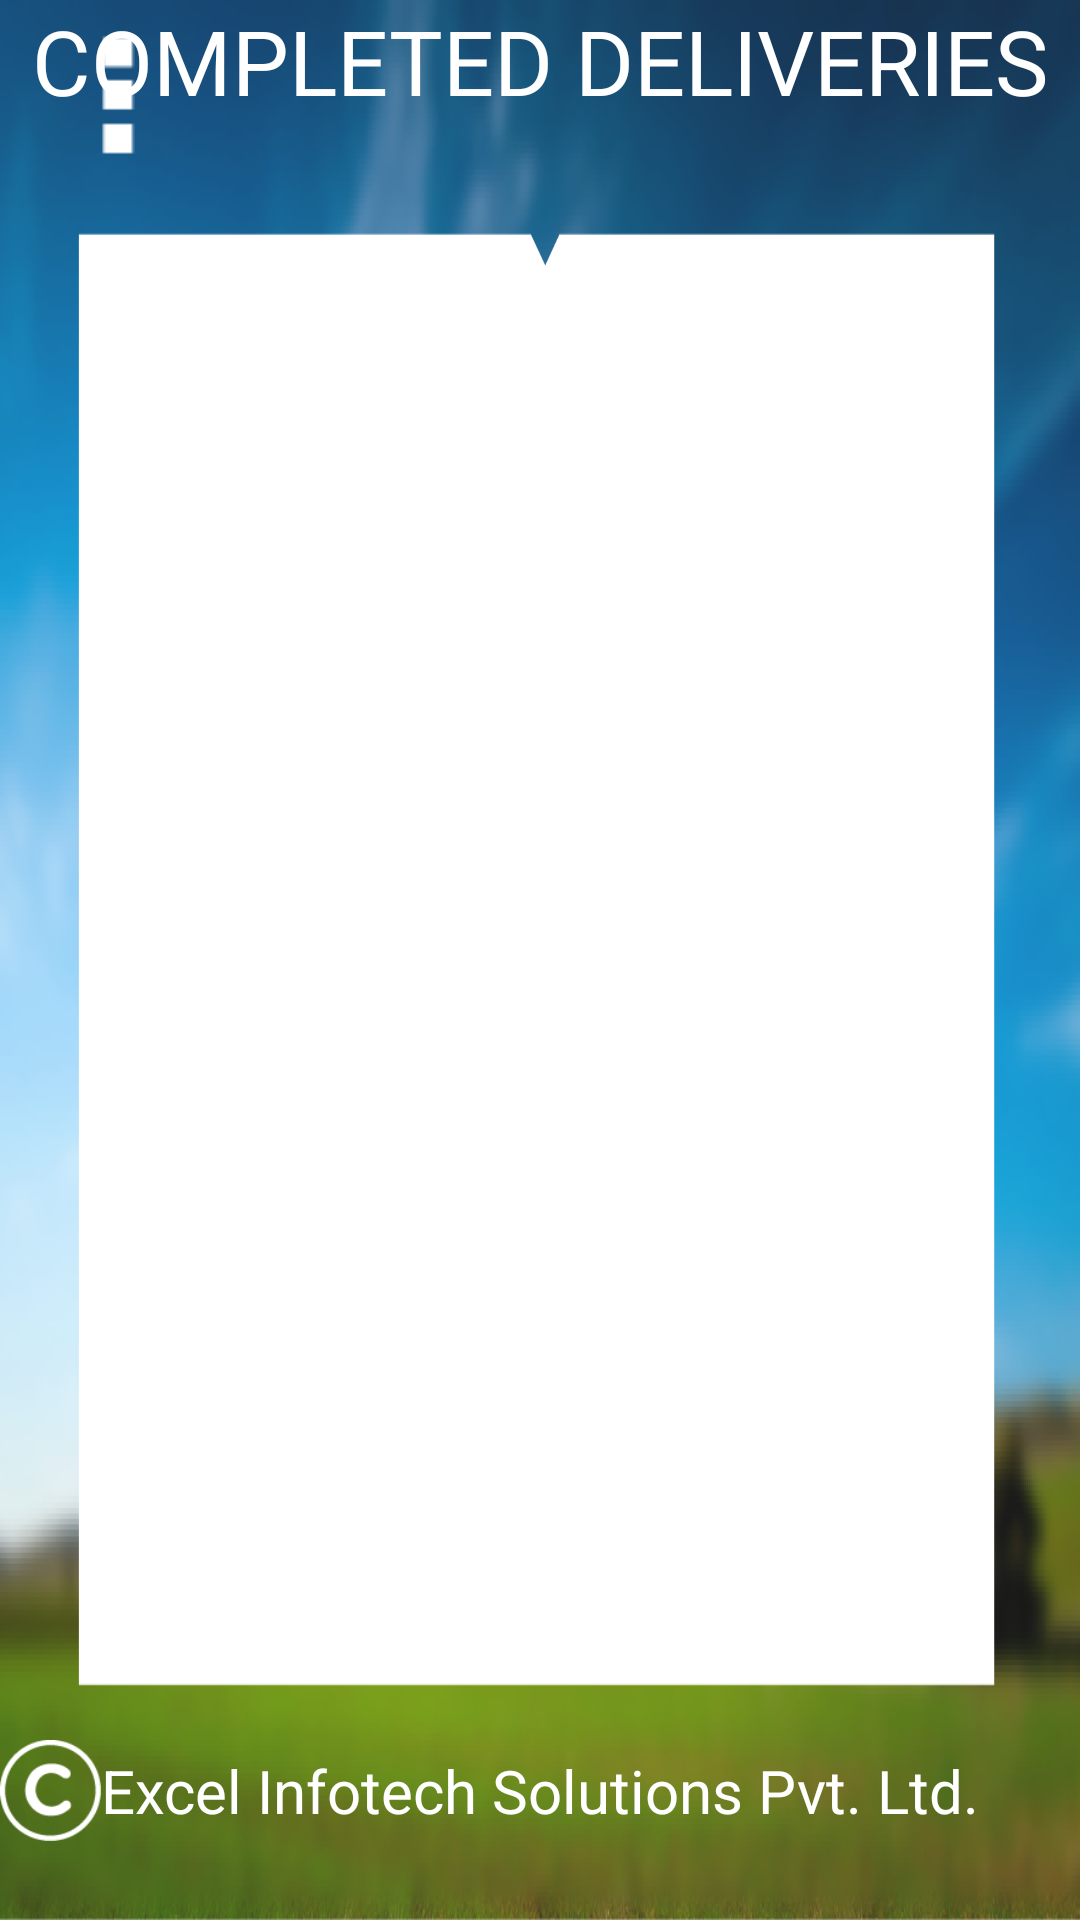

Locate icon controls on the screen. Image size 1080*1920, boxes as (x1, y1, x2, y2).
copyright: (0, 1728, 101, 1841)
